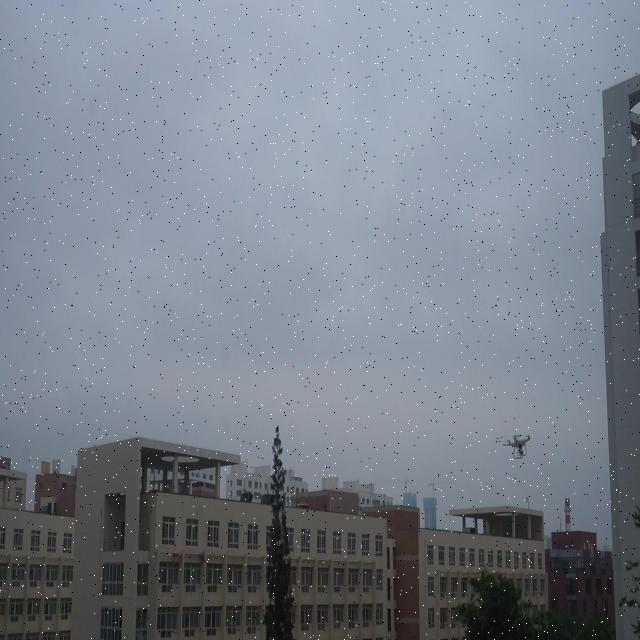UAV: (502, 434, 530, 459)
